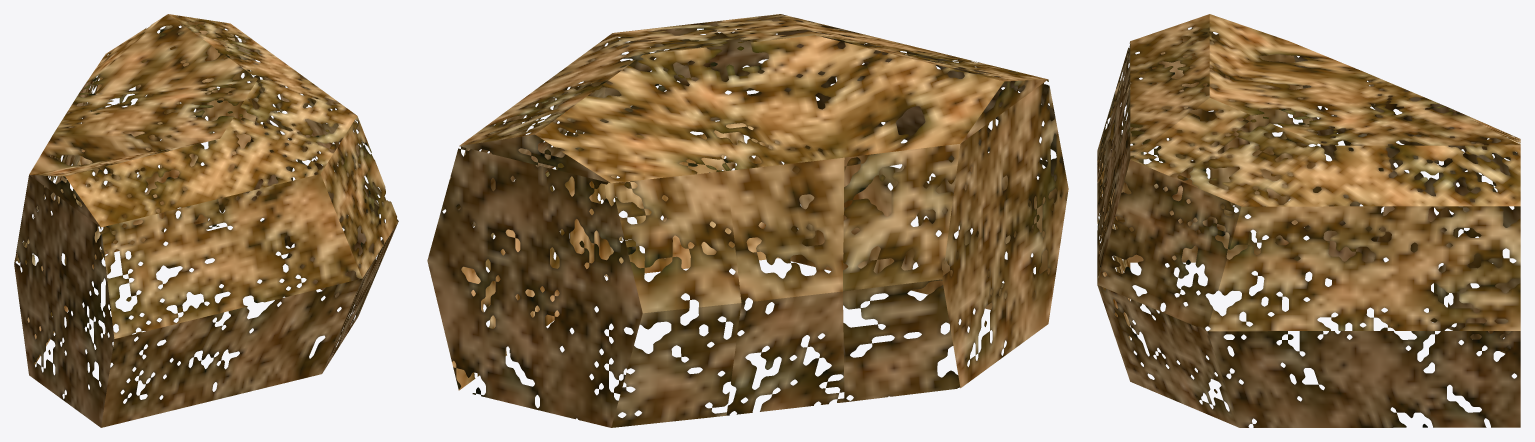
The model's file is bush_round_corner_filled_autumn.fbx.
3 views of the same model, side by side, from view 1: azimuth 30°, elevation 25°; view 2: azimuth 150°, elevation 25°; view 3: azimuth 270°, elevation 25° (orthographic). The views are drawn at different scales.
Visible parts, largest first — view 1: bush_round_corner_filled_autumn; view 2: bush_round_corner_filled_autumn; view 3: bush_round_corner_filled_autumn.
Boxes of the visible parts, x1,y1,x2,y2 form: bush_round_corner_filled_autumn: [14, 14, 398, 427]; bush_round_corner_filled_autumn: [427, 14, 1068, 427]; bush_round_corner_filled_autumn: [1097, 14, 1520, 427].
Bounding box in the file's own units: 136 × 87.65 × 135.
Materials: 1 (1 with a texture image).
